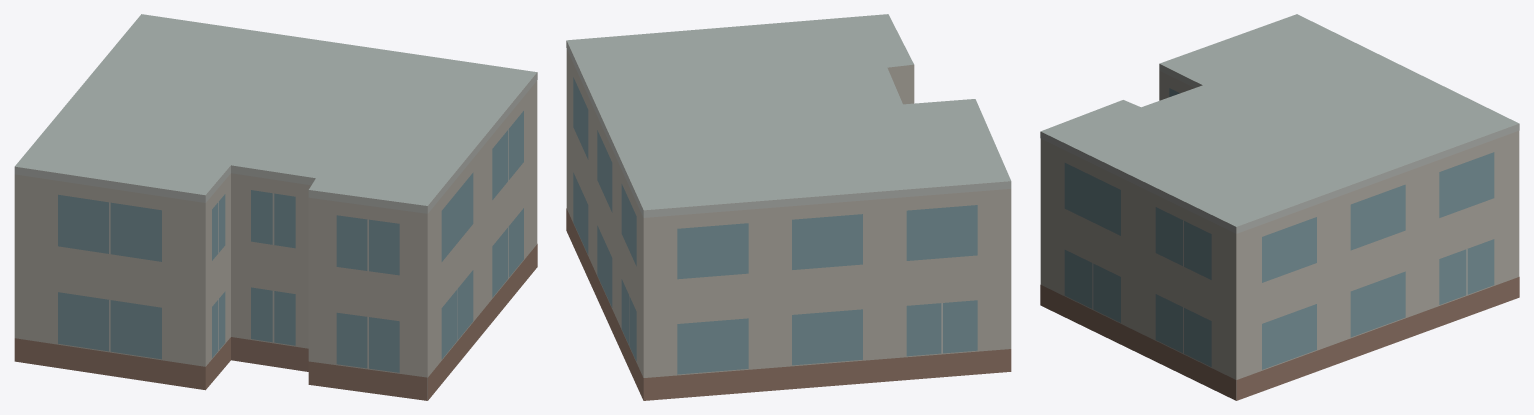
Rendered from survey-upis-32878904.glb.
3 renders of one model, left to right at view 1: azimuth 30°, elevation 25°; view 2: azimuth 150°, elevation 25°; view 3: azimuth 270°, elevation 25°, orthographic. The views are drawn at different scales.
Visible parts, largest first — view 1: survey-upis-32878904.tmp; view 2: survey-upis-32878904.tmp; view 3: survey-upis-32878904.tmp.
Part boxes in pixels (box(x1,y1,x2,y2)): survey-upis-32878904.tmp: box(14, 14, 537, 400); survey-upis-32878904.tmp: box(566, 14, 1011, 400); survey-upis-32878904.tmp: box(1040, 14, 1519, 400).
Bounding box in the file's own units: 16.03 × 6.1 × 15.24.
